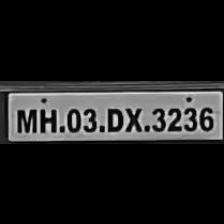0: (62, 104, 82, 132)
2: (163, 103, 181, 130)
3: (79, 104, 98, 132), (146, 103, 164, 130), (181, 102, 197, 130)
6: (196, 101, 214, 128)
D: (102, 103, 124, 130)
H: (36, 104, 58, 132)
M: (15, 104, 36, 132)
X: (123, 103, 143, 131)
